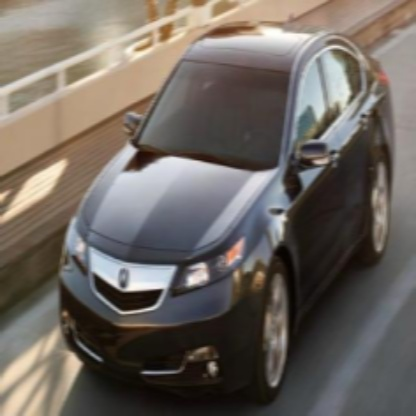Vehicle: (60, 17, 398, 407)
